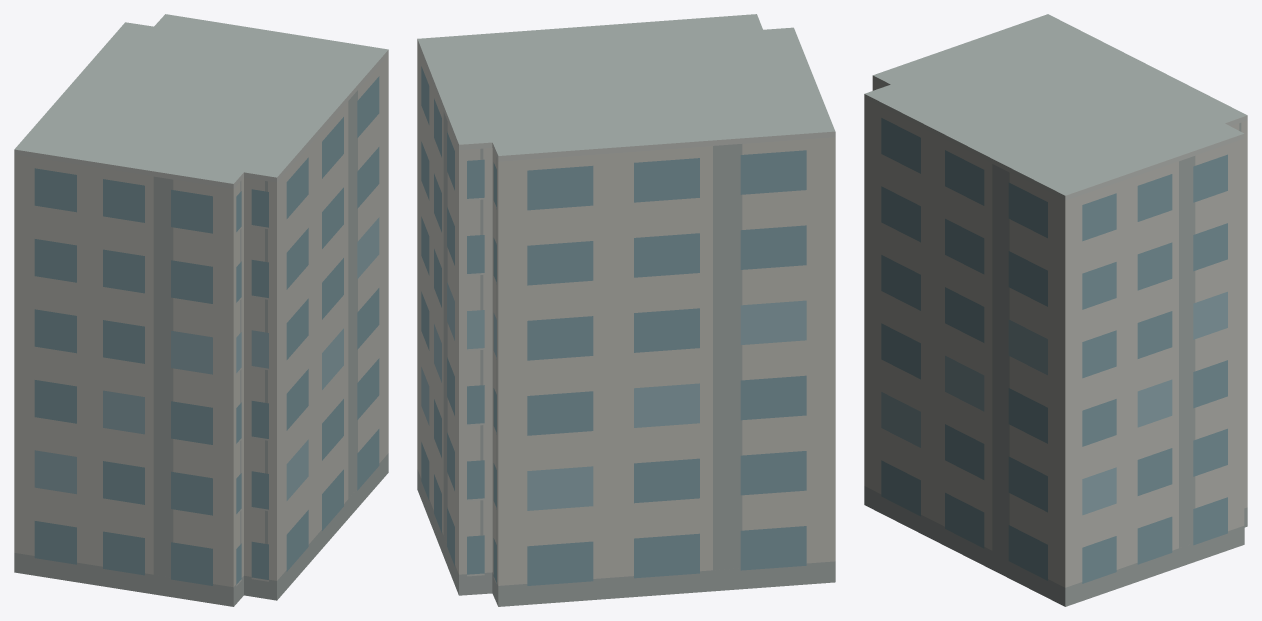
Rendered from survey-upis-32866268.glb.
3 renders of one model, left to right at view 1: azimuth 30°, elevation 25°; view 2: azimuth 150°, elevation 25°; view 3: azimuth 270°, elevation 25°, orthographic. The views are drawn at different scales.
Parts seen in each view (by area): view 1: survey-upis-32866268.tmp; view 2: survey-upis-32866268.tmp; view 3: survey-upis-32866268.tmp.
Boxes of the visible parts, left/top/right/bottom form: survey-upis-32866268.tmp: left=14, top=14, right=388, bottom=606; survey-upis-32866268.tmp: left=417, top=14, right=835, bottom=606; survey-upis-32866268.tmp: left=864, top=14, right=1247, bottom=606.
Size of the model in its own units: 18.98 by 20 by 16.91.
